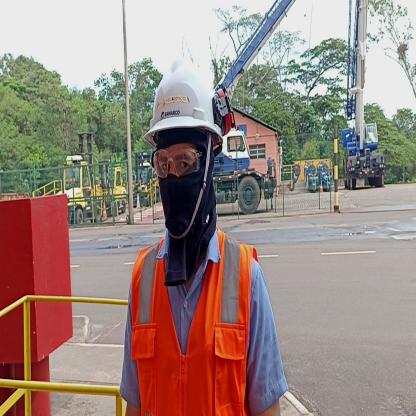Balaclava: (156, 134, 216, 231)
Capacete: (150, 58, 223, 135)
colete: (138, 244, 247, 416)
